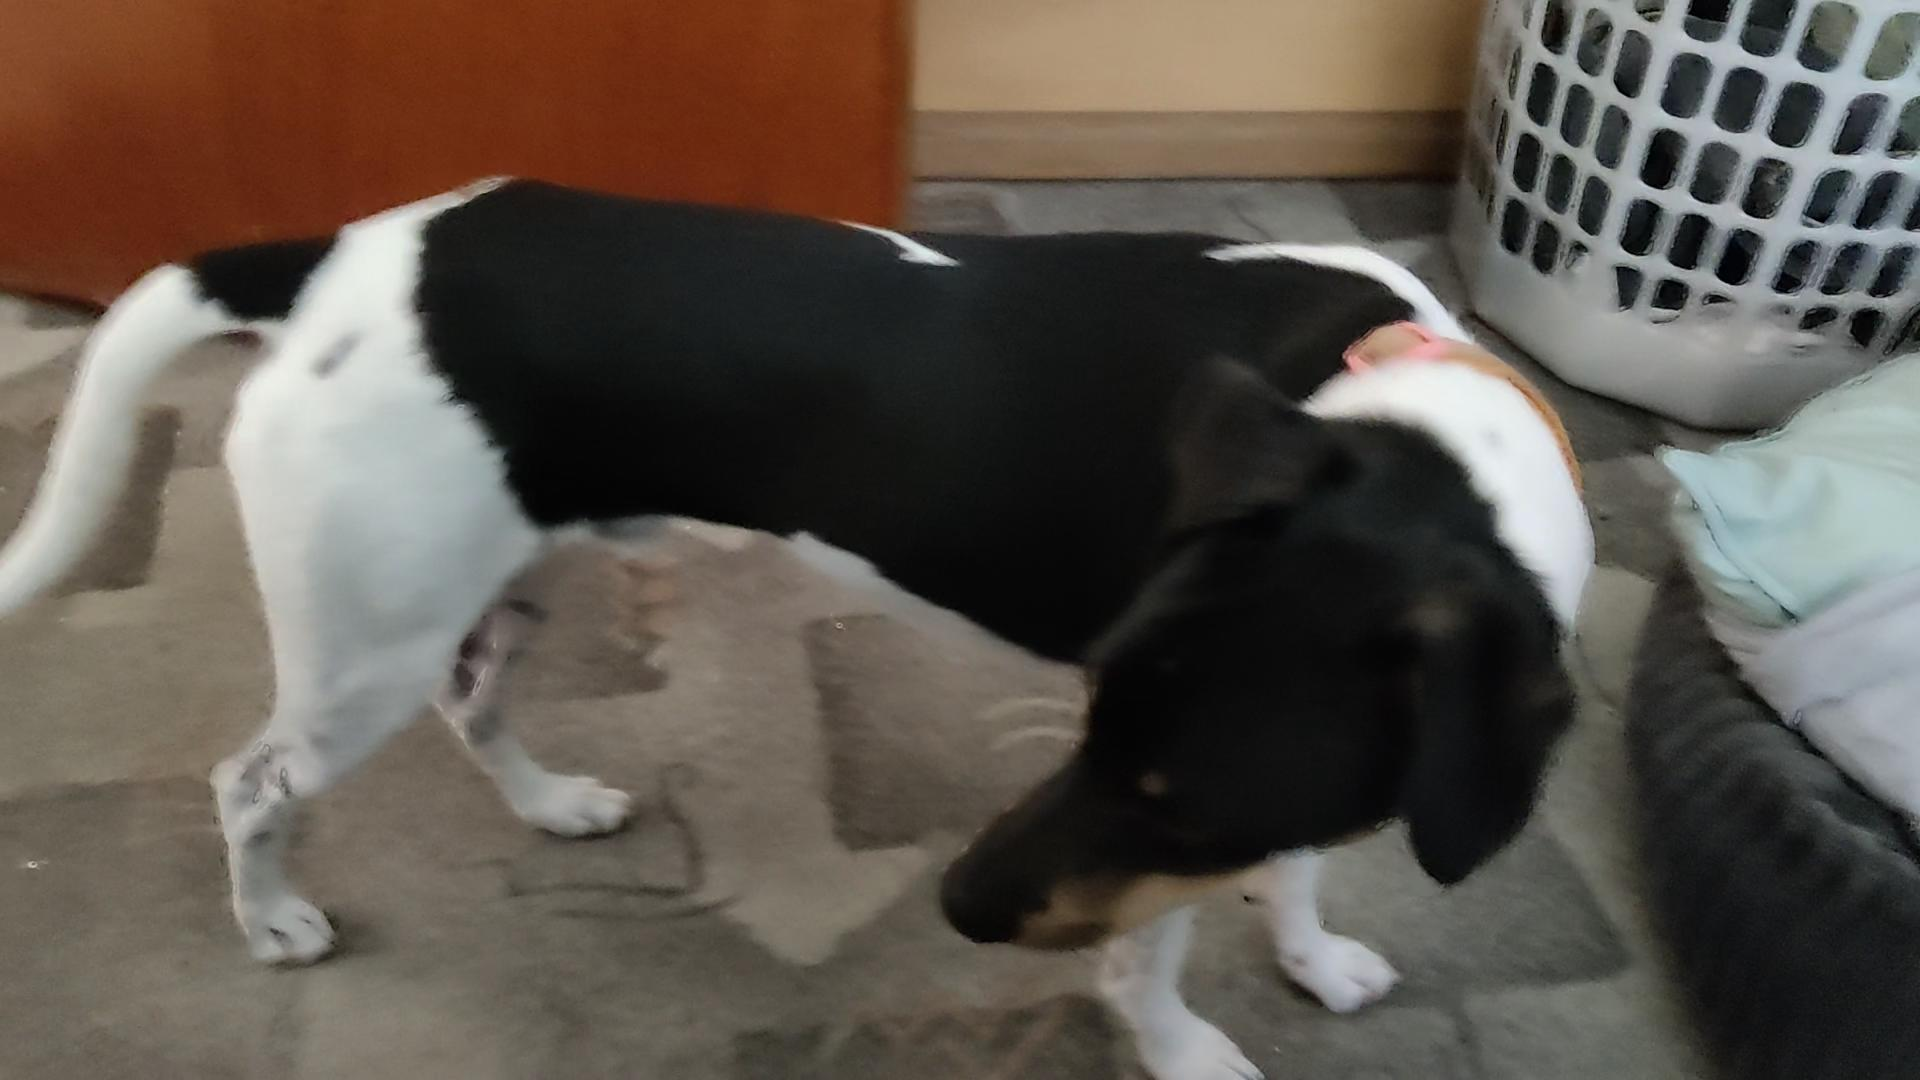Dog: (0, 171, 1607, 1079)
